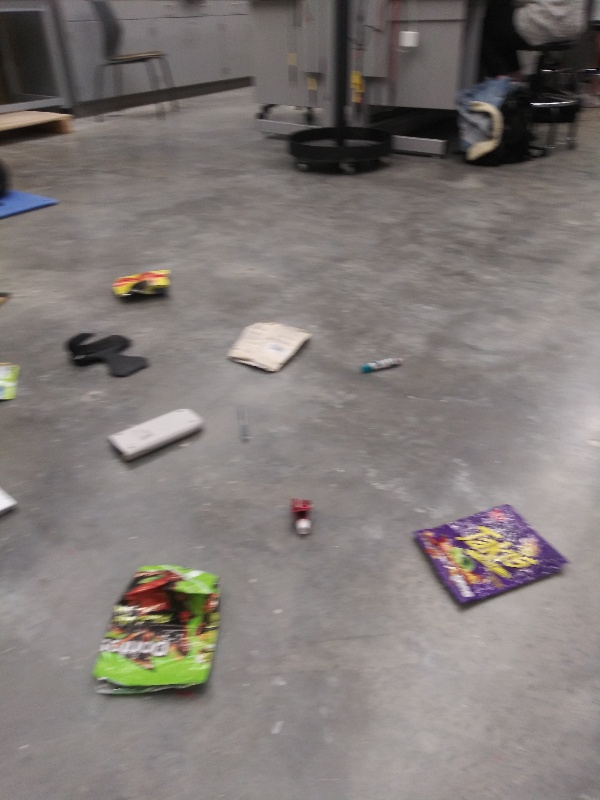bag: (86, 559, 227, 701), (409, 501, 576, 615), (223, 319, 318, 375), (105, 266, 176, 304), (1, 353, 22, 415)
